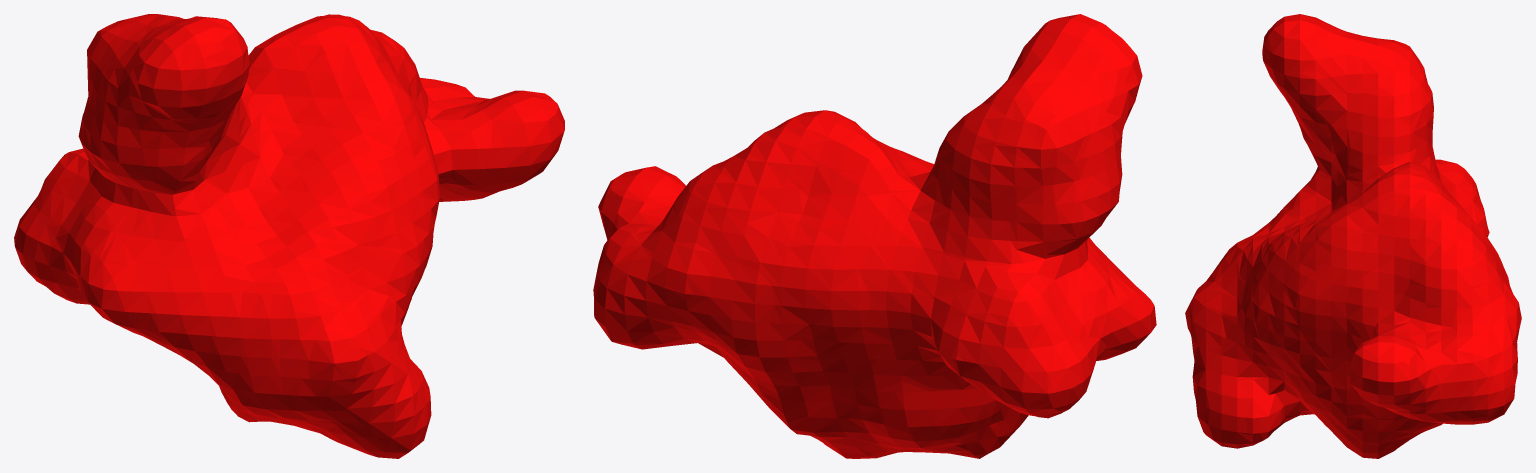
The model's file is wbbJ_coarse.dae.
The picture shows the model from 3 angles, left to right: view 1: azimuth 30°, elevation 25°; view 2: azimuth 150°, elevation 25°; view 3: azimuth 270°, elevation 25°; orthographic projection. The views are drawn at different scales.
Visible parts, largest first — view 1: wbbJ; view 2: wbbJ; view 3: wbbJ.
Boxes of the visible parts, left/top/right/bottom form: wbbJ: left=14, top=14, right=564, bottom=458; wbbJ: left=593, top=14, right=1156, bottom=458; wbbJ: left=1185, top=14, right=1521, bottom=458.
Size of the model in its own units: 64 by 53.45 by 44.31.
